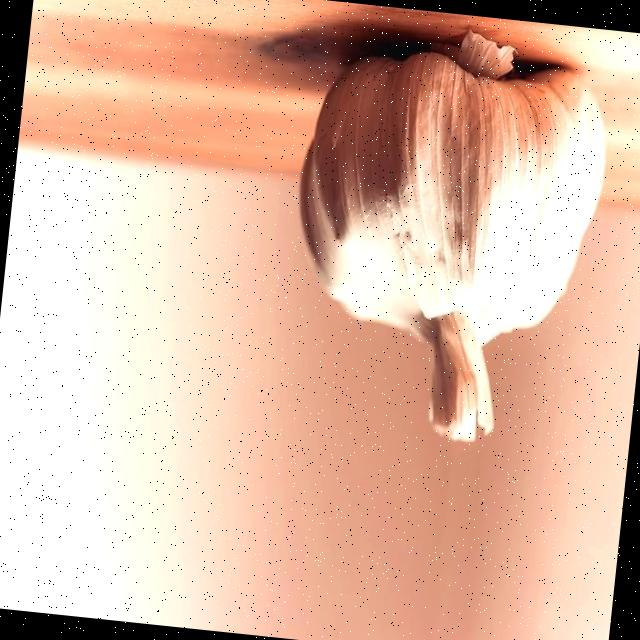garlic: (299, 33, 604, 440)
